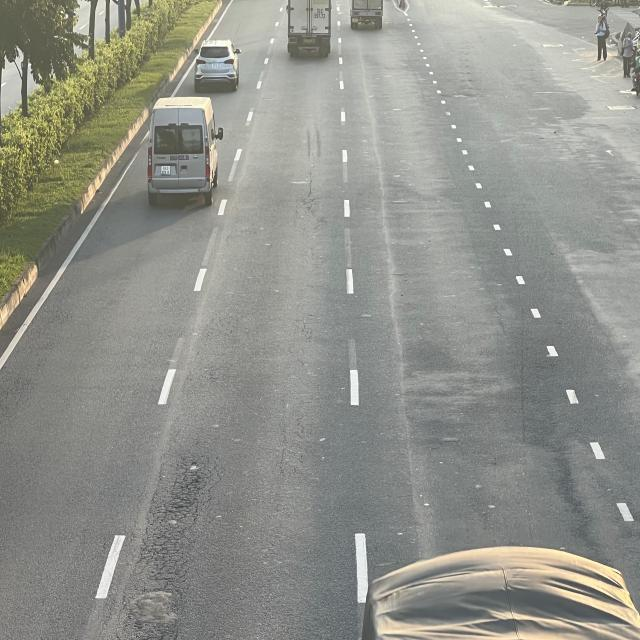car: (195, 42, 242, 90)
truck: (284, 0, 330, 55)
van: (150, 97, 225, 204)
